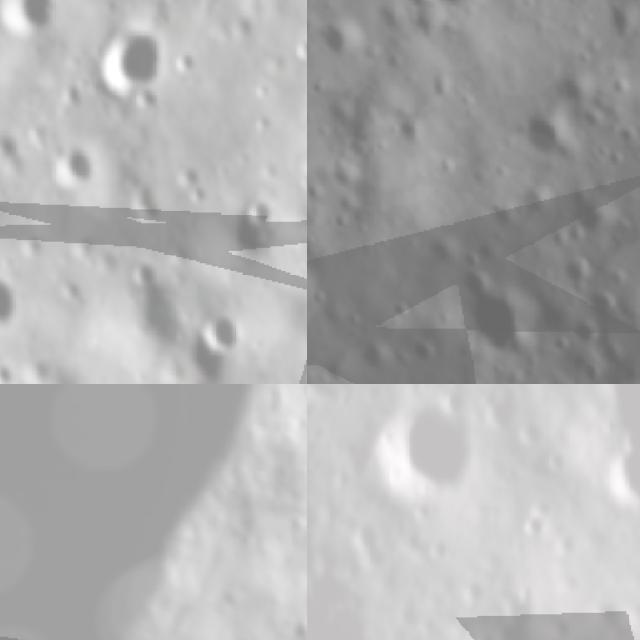crater: (442, 250, 555, 364), (380, 397, 481, 509), (543, 158, 632, 250), (502, 87, 582, 169), (307, 219, 353, 354), (90, 27, 170, 96), (307, 0, 372, 67), (408, 220, 469, 280), (399, 0, 508, 33), (472, 178, 528, 236), (591, 384, 640, 448), (341, 324, 397, 379), (328, 120, 384, 174), (606, 437, 640, 515), (190, 311, 250, 355), (546, 238, 598, 288), (558, 304, 606, 356), (46, 146, 96, 194), (0, 0, 55, 42), (398, 323, 446, 370), (388, 104, 433, 150), (577, 275, 621, 319), (476, 389, 517, 430), (514, 414, 548, 458), (0, 269, 22, 335), (239, 194, 276, 231), (544, 444, 570, 477), (516, 511, 546, 538), (291, 24, 307, 67), (237, 530, 261, 550), (292, 614, 307, 640), (284, 415, 301, 432)
